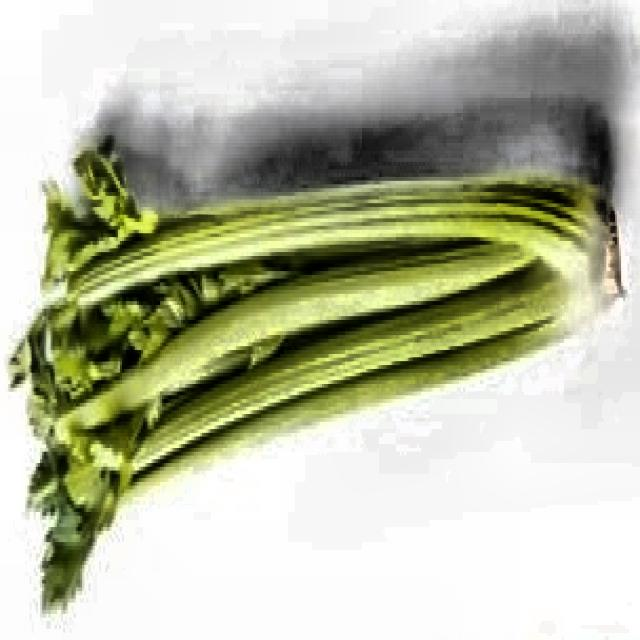Vegetable: (6, 0, 639, 633)
